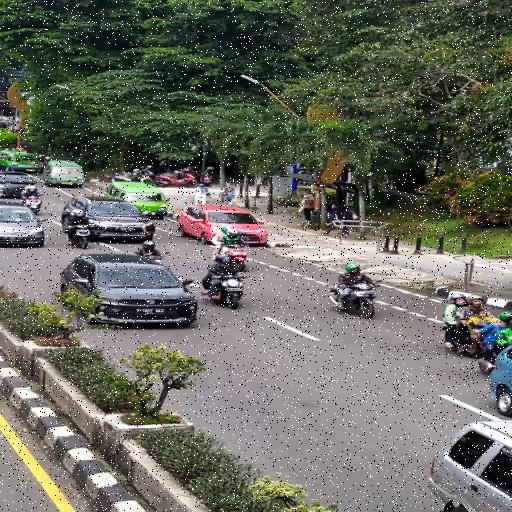Helmet: (448, 292, 485, 310), (218, 225, 240, 239), (215, 252, 230, 266), (142, 237, 155, 251), (70, 211, 86, 221), (343, 265, 357, 275)
Motor: (200, 269, 247, 312), (330, 283, 378, 321), (214, 244, 250, 270), (65, 226, 88, 248)
